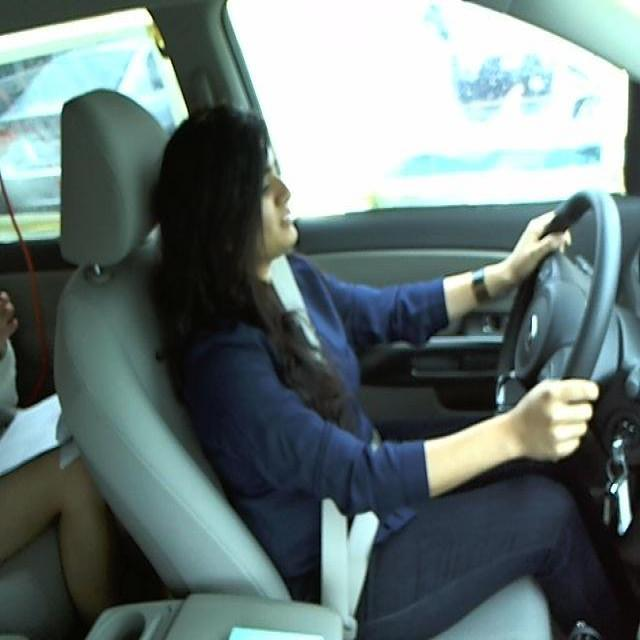without_using_phone: (140, 84, 323, 303)
